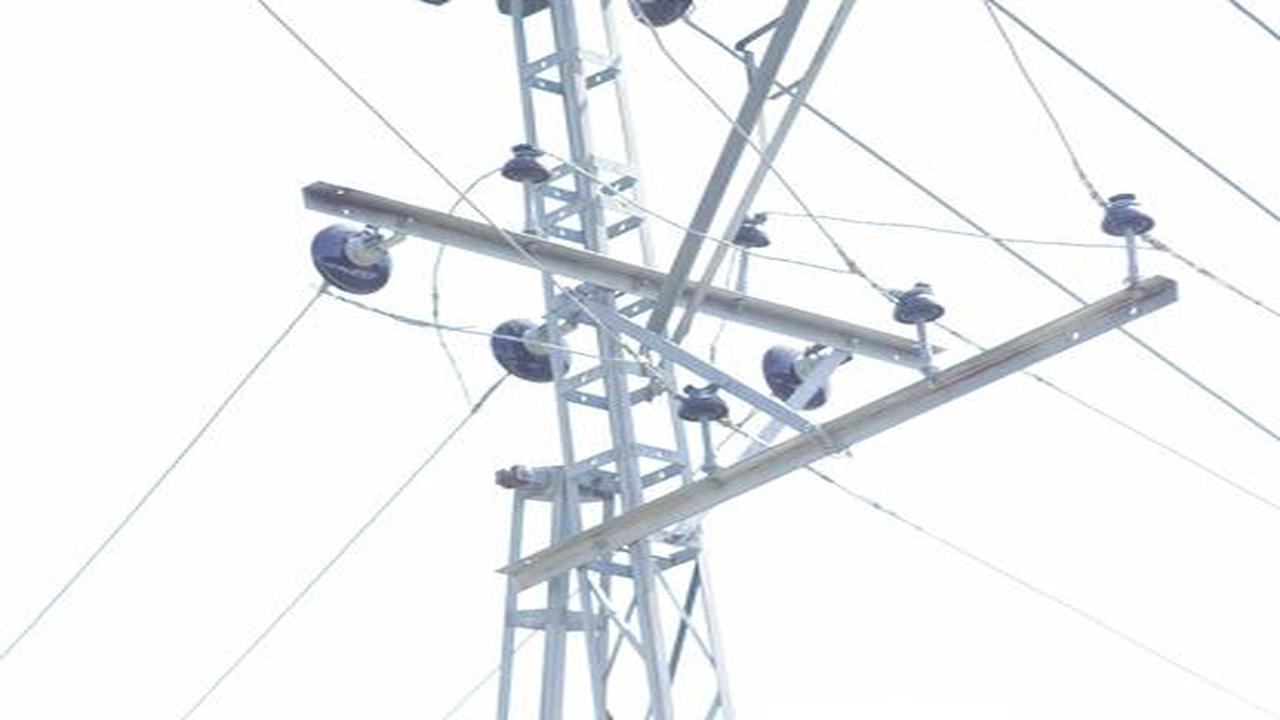insulator_disc: (309, 221, 397, 294), (490, 315, 574, 384), (760, 339, 834, 413)
insulator_pin: (884, 276, 948, 333), (1096, 190, 1162, 244), (677, 377, 734, 428), (501, 139, 553, 187), (730, 208, 775, 254)
